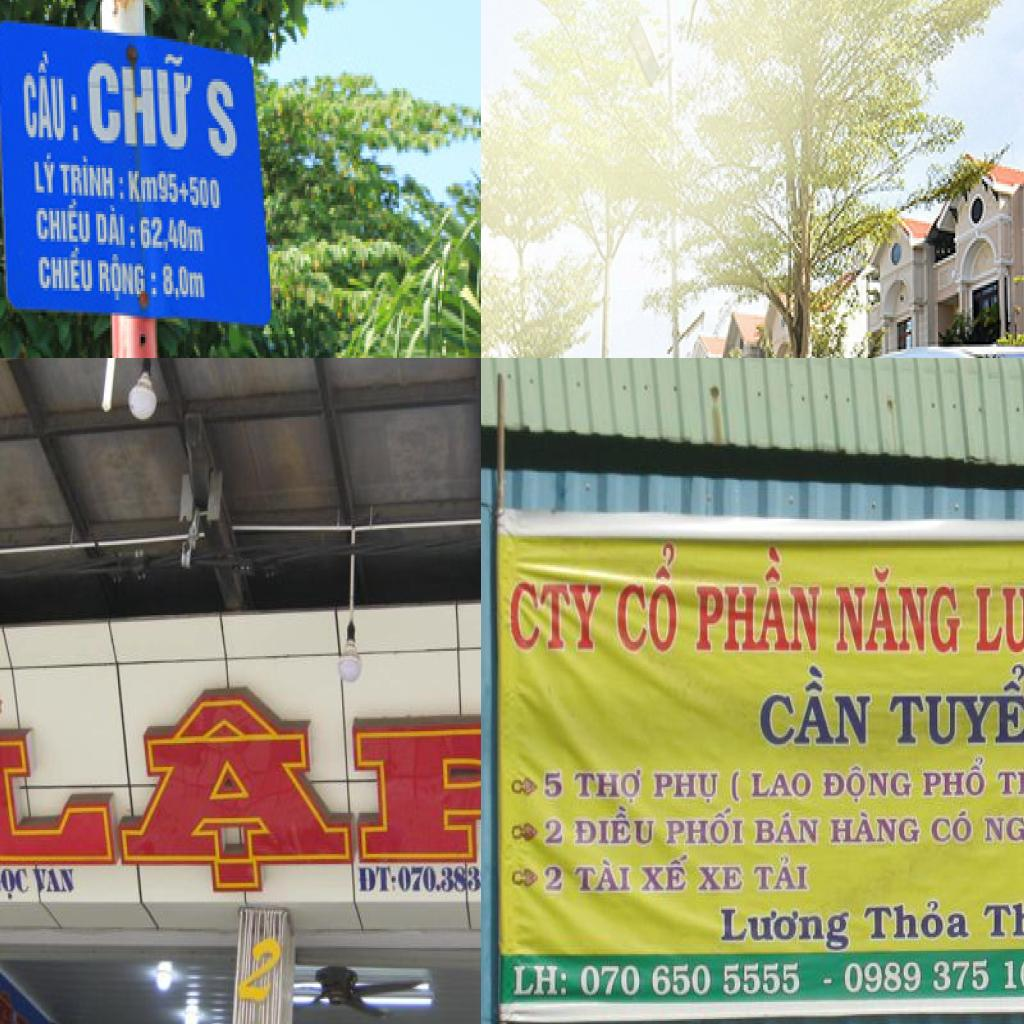text: (0, 652, 481, 874), (691, 541, 821, 656), (832, 563, 962, 659), (887, 664, 1024, 752), (86, 48, 196, 153), (753, 664, 877, 753), (509, 577, 603, 657), (716, 901, 851, 956), (16, 48, 86, 153), (617, 538, 680, 654), (974, 567, 1024, 671), (858, 900, 970, 946), (127, 165, 225, 214), (234, 929, 284, 1008), (820, 764, 914, 806), (200, 76, 242, 165), (570, 804, 656, 847), (664, 804, 746, 848), (841, 956, 923, 998), (59, 156, 129, 205), (828, 809, 922, 845), (34, 248, 98, 300), (722, 960, 804, 1000), (96, 251, 161, 300), (139, 214, 208, 260), (920, 754, 988, 800), (646, 765, 720, 807), (574, 765, 645, 807), (34, 202, 94, 248), (927, 956, 993, 997), (752, 809, 822, 847), (651, 963, 713, 1005), (578, 963, 644, 1002), (635, 850, 692, 895), (398, 864, 481, 894), (0, 963, 39, 1024), (510, 963, 571, 1002), (980, 894, 1024, 948), (94, 205, 139, 257), (749, 766, 814, 802), (753, 855, 810, 895), (575, 859, 633, 896), (979, 807, 1024, 848), (928, 807, 973, 847), (697, 862, 745, 894), (32, 149, 59, 202), (32, 866, 78, 897), (993, 757, 1024, 800), (358, 866, 398, 895), (0, 866, 32, 900), (1000, 957, 1024, 998), (540, 812, 568, 846), (540, 764, 565, 800), (543, 858, 565, 894), (728, 766, 742, 806)
